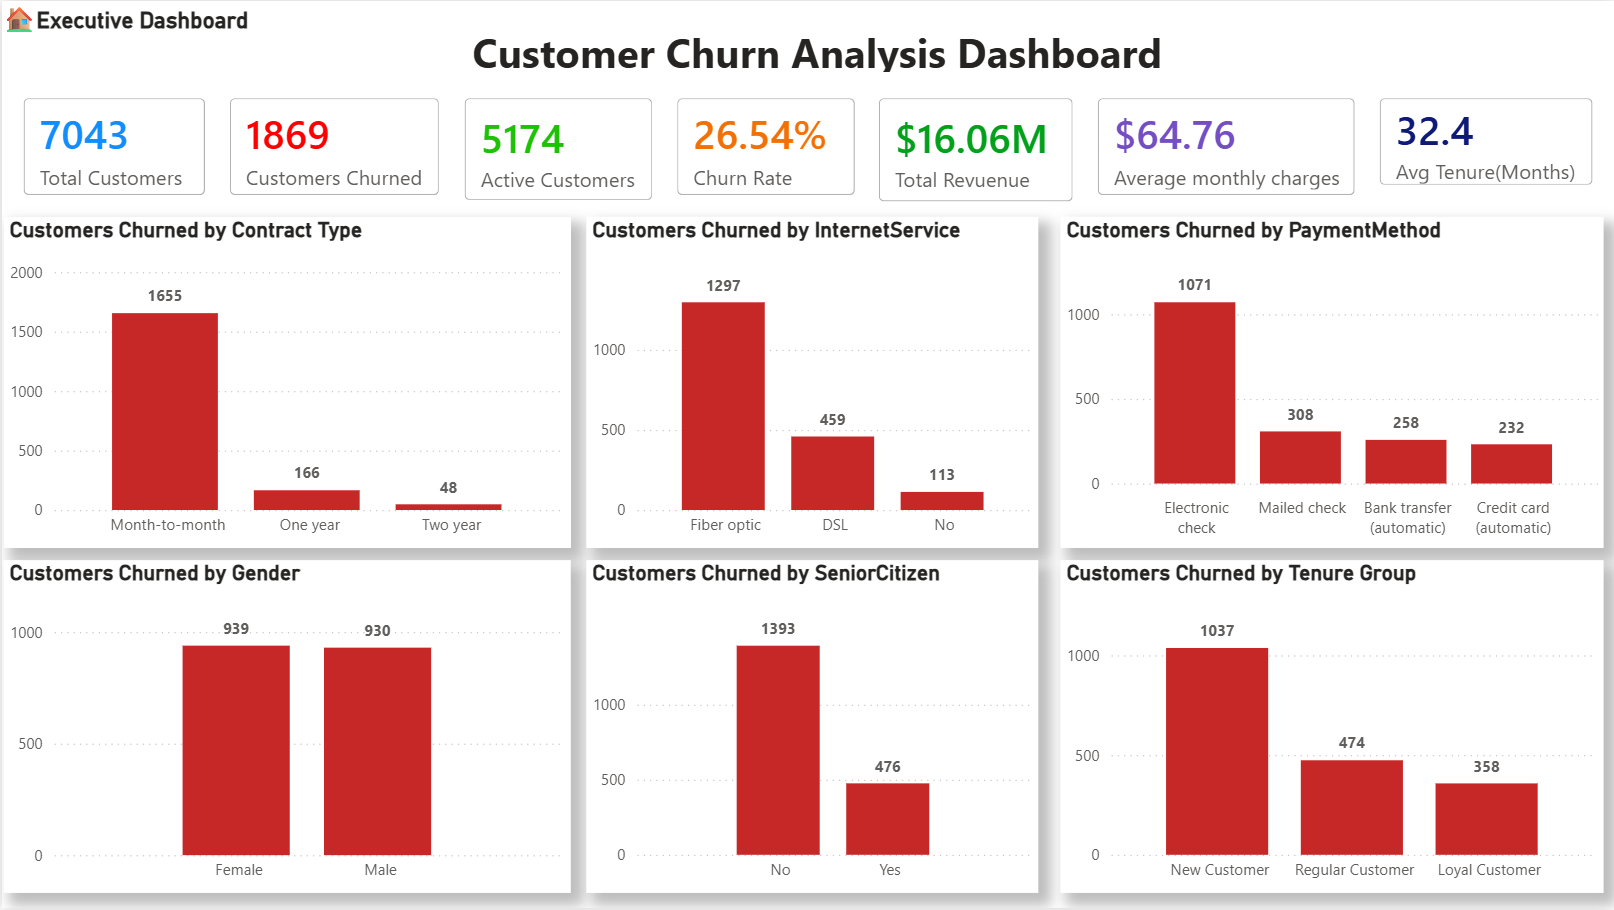

The page's visual inventory and layout, read from the dashboard file:
{"tool":"powerbi","page":{"name":"Page 1","canvas":[1280,720],"ordinal":0},"visuals":[{"type":"cardVisual","fields":{"Data":["Customer Churn Analysis.Total Customers"]},"box":[0,60,178.6,111.4],"z":0},{"type":"cardVisual","fields":{"Data":["Customer Churn Analysis.Customers Churned"]},"box":[164.1,60,200,111.7],"z":1000},{"type":"cardVisual","fields":{"Data":["Customer Churn Analysis.Active Customers"]},"box":[349.6,60,183.3,115],"z":2000},{"type":"cardVisual","fields":{"Data":["Customer Churn Analysis.Churn Rate"]},"box":[518.5,60,175,111.7],"z":3000},{"type":"cardVisual","fields":{"Data":["Customer Churn Analysis.Total Revuenue"]},"box":[679,60,188.3,116.7],"z":4000},{"type":"cardVisual","fields":{"Data":["Customer Churn Analysis.Average monthly charges"]},"box":[852.8,60,238.3,111.7],"z":5000},{"type":"cardVisual","fields":{"Data":["Customer Churn Analysis.Avg Tenure"]},"box":[1076.7,60,203.3,103.3],"z":6000},{"type":"clusteredColumnChart","title":"Customers Churned  by Contract Type","fields":{"Category":["Customer Churn Analysis.Contract"],"Y":["Customer Churn Analysis.Customers Churned"]},"box":[1.4,171.4,450,262.9],"z":7000},{"type":"textbox","box":[191.7,13.3,920,46.7],"z":8000},{"type":"clusteredColumnChart","fields":{"Category":["Customer Churn Analysis.InternetService"],"Y":["Customer Churn Analysis.Customers Churned"]},"box":[464.3,171.4,358.6,262.9],"z":9000},{"type":"clusteredColumnChart","fields":{"Category":["Customer Churn Analysis.PaymentMethod"],"Y":["Customer Churn Analysis.Customers Churned"]},"box":[840,171.4,431.4,262.9],"z":10000},{"type":"clusteredColumnChart","fields":{"Category":["Customer Churn Analysis.Gender"],"Y":["Customer Churn Analysis.Customers Churned"]},"box":[1.4,444.3,450,264.3],"z":11000},{"type":"clusteredColumnChart","fields":{"Category":["Customer Churn Analysis.SeniorCitizen"],"Y":["Customer Churn Analysis.Customers Churned"]},"box":[464,444,359,264],"z":12000},{"type":"clusteredColumnChart","fields":{"Category":["Customer Churn Analysis.Tenure Group"],"Y":["Customer Churn Analysis.Customers Churned"]},"box":[840,444,431,264],"z":13000},{"type":"actionButton","title":"🏠Executive Dashboard","box":[0,0,248.9,40],"z":13002},{"type":"shape","box":[1076.7,0,56.7,60],"z":13003}]}

Visuals, with their boxes in screenshot pixels (x1, y1, x2, y2), scaled from the page's 1280x720 canvas onto the 1614x910 screenshot:
cardVisual - Customer Churn Analysis.Total Customers: BBox(0, 76, 225, 217)
cardVisual - Customer Churn Analysis.Customers Churned: BBox(207, 76, 459, 217)
cardVisual - Customer Churn Analysis.Active Customers: BBox(441, 76, 672, 221)
cardVisual - Customer Churn Analysis.Churn Rate: BBox(654, 76, 874, 217)
cardVisual - Customer Churn Analysis.Total Revuenue: BBox(856, 76, 1094, 223)
cardVisual - Customer Churn Analysis.Average monthly charges: BBox(1075, 76, 1376, 217)
cardVisual - Customer Churn Analysis.Avg Tenure: BBox(1358, 76, 1613, 206)
"Customers Churned  by Contract Type" clusteredColumnChart: BBox(2, 217, 569, 549)
textbox: BBox(242, 17, 1402, 76)
clusteredColumnChart - Customer Churn Analysis.InternetService x Customer Churn Analysis.Customers Churned: BBox(585, 217, 1038, 549)
clusteredColumnChart - Customer Churn Analysis.PaymentMethod x Customer Churn Analysis.Customers Churned: BBox(1059, 217, 1603, 549)
clusteredColumnChart - Customer Churn Analysis.Gender x Customer Churn Analysis.Customers Churned: BBox(2, 562, 569, 896)
clusteredColumnChart - Customer Churn Analysis.SeniorCitizen x Customer Churn Analysis.Customers Churned: BBox(585, 561, 1038, 895)
clusteredColumnChart - Customer Churn Analysis.Tenure Group x Customer Churn Analysis.Customers Churned: BBox(1059, 561, 1603, 895)
"🏠Executive Dashboard" actionButton: BBox(0, 0, 314, 51)
shape: BBox(1358, 0, 1429, 76)
